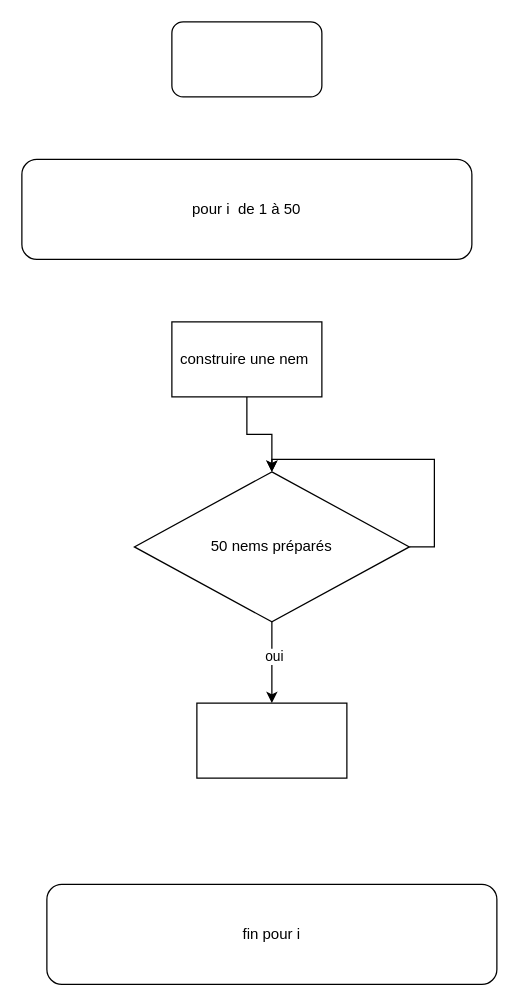
This 519x1006 diagram has some shape labels left out. The shapes that lost their labels are listed below. From the top down, each one's centre as x and y in pixels, then its label:
the point at 246,59: debut
the point at 271,740: i = 1
